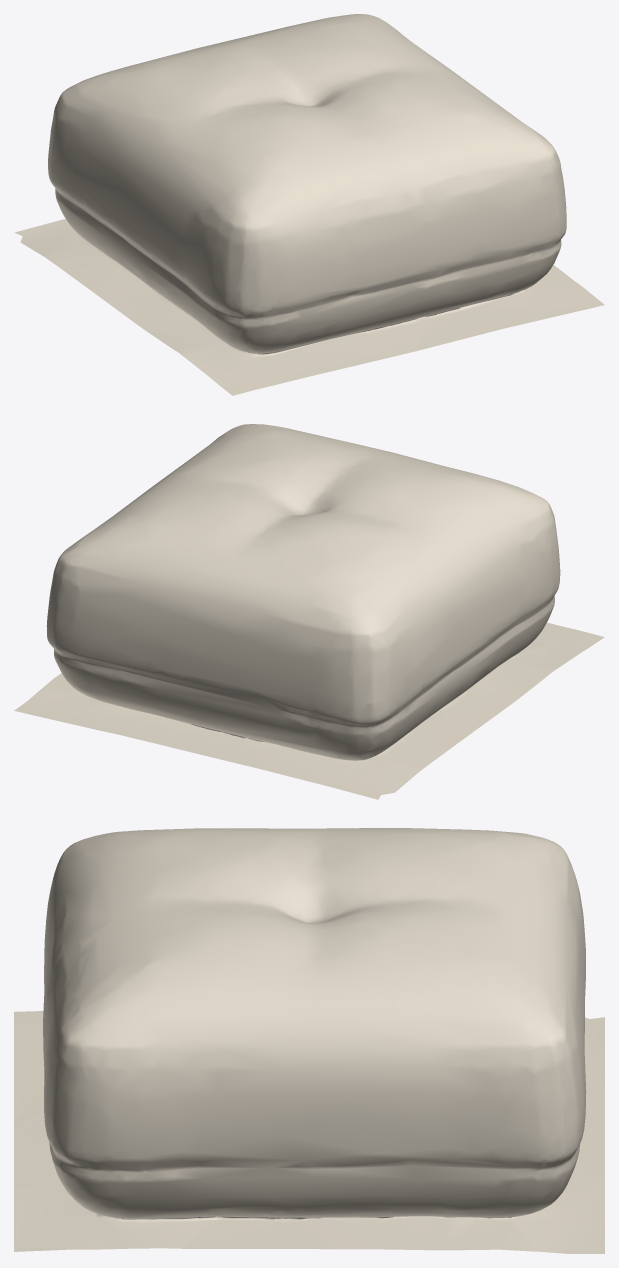
Rendered from bedroom_pouf.glb.
The picture shows the model from 3 angles, top to bottom: view 1: azimuth 30°, elevation 25°; view 2: azimuth 150°, elevation 25°; view 3: azimuth 270°, elevation 25°; orthographic projection. The views are drawn at different scales.
Size of the model in its own units: 0.2139 by 0.1008 by 0.2224.
